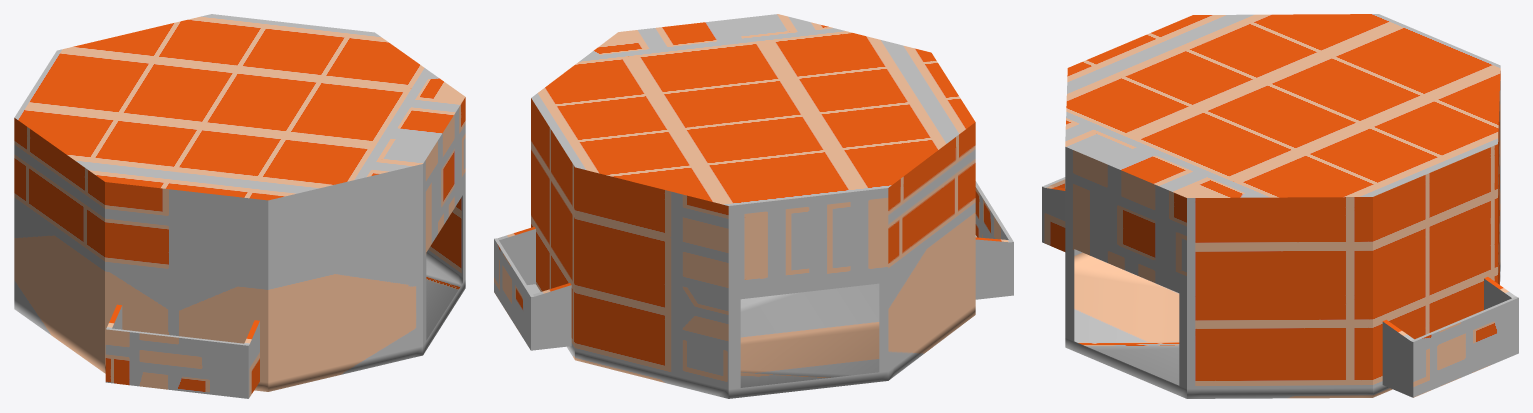
File: 2_balkonlu_kat_camlı.fbx
The picture shows the model from 3 angles, left to right: view 1: azimuth 30°, elevation 25°; view 2: azimuth 150°, elevation 25°; view 3: azimuth 270°, elevation 25°; orthographic projection. The views are drawn at different scales.
Visible parts, largest first — view 1: Cube.003; view 2: Cube.003; view 3: Cube.003.
Boxes of the visible parts, bbox=[...] form: Cube.003: bbox=[14, 14, 465, 398]; Cube.003: bbox=[494, 14, 1013, 398]; Cube.003: bbox=[1042, 14, 1518, 398].
Bounding box in the file's own units: 218 × 102 × 219.
